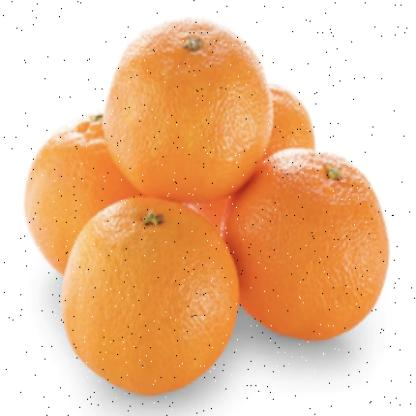fresh: (22, 21, 392, 393)
